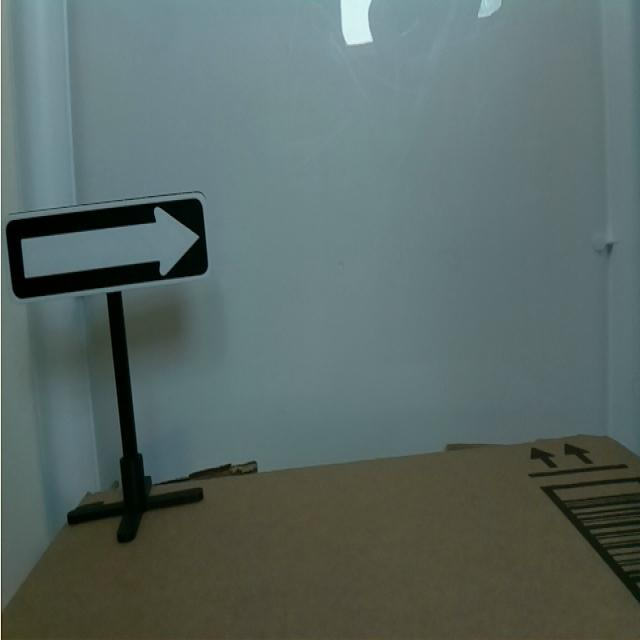sign_oneway_right: (4, 174, 216, 313)
